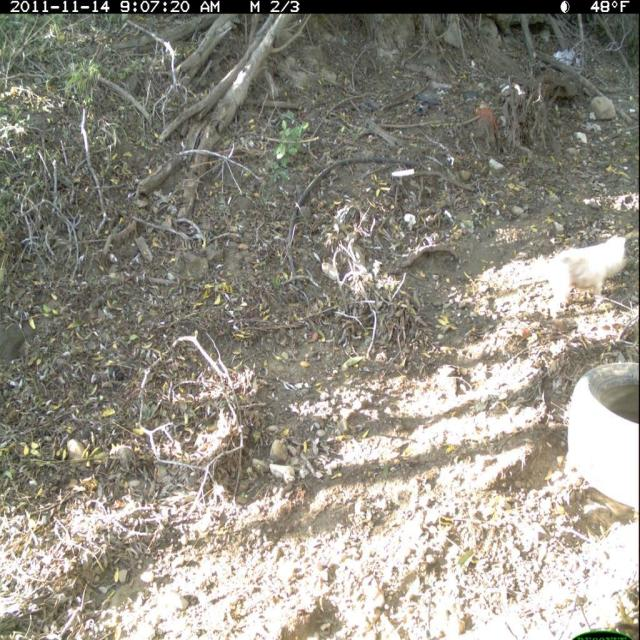dog: (527, 232, 632, 322)
